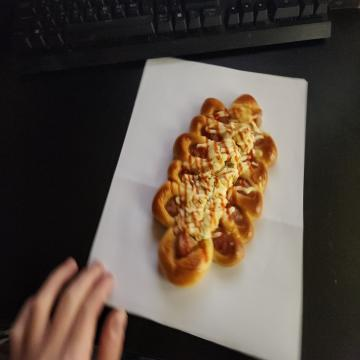pizza_bread: (152, 95, 277, 292)
